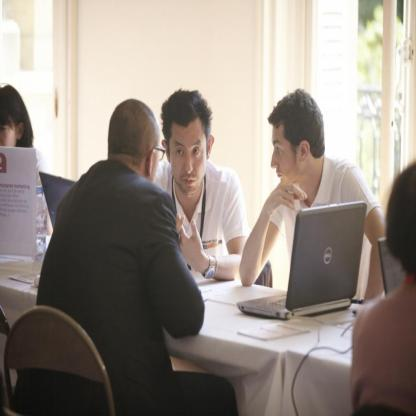board: (236, 202, 366, 321), (40, 172, 78, 233), (36, 186, 48, 262)
